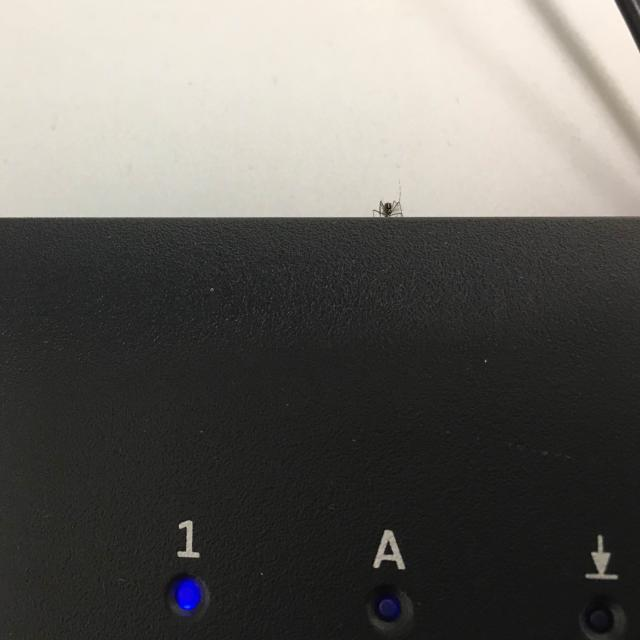albopictus: (371, 180, 405, 218)
